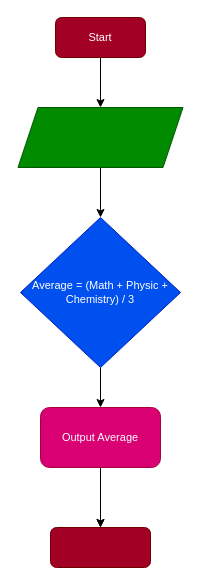
This 200x585 diagram has some shape labels left out. Each missing label, with the centre of its shape:
end: the point at 100,547
nhập điểm toán, lý, hoá: the point at 100,137
